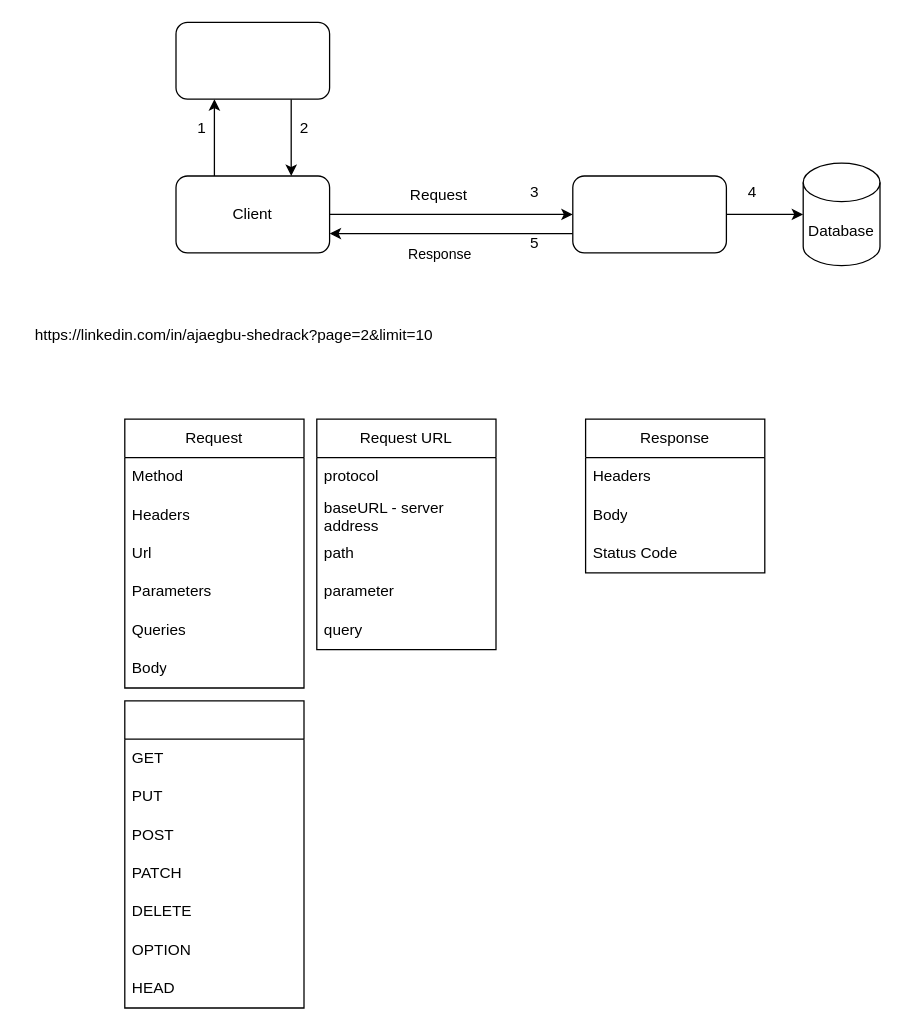
Some shapes in this 902 by 1030 pixel diagram are drawn without their labels. The box of each missing label's shape, as (x1, y1, x2, y2) in pixels:
DNS Server: (175, 21, 330, 99)
Request Method: (124, 700, 304, 1008)
Server: (572, 175, 726, 253)
